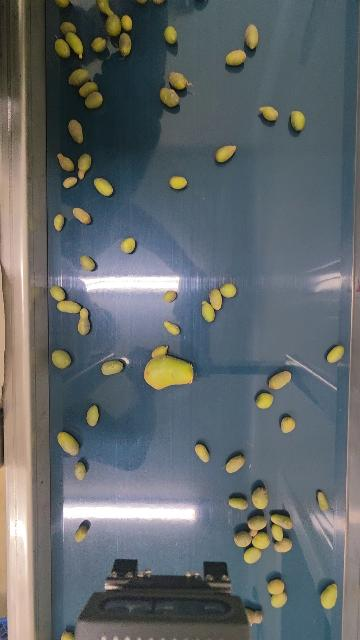Baby Potato: (142, 354, 196, 391), (64, 30, 86, 61), (56, 430, 80, 457), (320, 582, 339, 611), (268, 370, 292, 391), (270, 511, 295, 531), (159, 85, 180, 108), (168, 70, 190, 91), (214, 144, 237, 164), (67, 118, 84, 144), (224, 454, 246, 474), (52, 347, 72, 369), (244, 23, 260, 50), (251, 486, 269, 510), (76, 153, 92, 180), (251, 529, 271, 550), (68, 67, 90, 86), (224, 48, 247, 66), (289, 108, 306, 132), (93, 177, 113, 197), (53, 37, 71, 59), (77, 307, 91, 335), (105, 14, 122, 37), (101, 359, 124, 376), (56, 152, 75, 172), (255, 390, 274, 410), (233, 529, 254, 547), (247, 514, 268, 532), (208, 287, 224, 310), (200, 300, 216, 323), (118, 31, 132, 57), (56, 300, 82, 314), (72, 206, 91, 225), (243, 545, 262, 564), (244, 607, 264, 625), (84, 91, 104, 109), (77, 80, 98, 97), (272, 536, 293, 553), (269, 591, 288, 609), (327, 344, 344, 364), (267, 578, 286, 595), (259, 105, 279, 121), (194, 442, 210, 462), (228, 496, 249, 511), (86, 404, 100, 426), (280, 415, 296, 434), (168, 175, 188, 190), (164, 319, 181, 336), (164, 25, 178, 45), (316, 490, 329, 511), (80, 254, 96, 271), (120, 237, 136, 254), (220, 282, 237, 298), (91, 36, 107, 53), (49, 284, 65, 301), (96, 0, 114, 15), (73, 461, 86, 481), (53, 212, 65, 232), (60, 20, 77, 34), (151, 345, 169, 358), (74, 526, 87, 542), (121, 14, 133, 31), (163, 289, 177, 303), (63, 176, 78, 189), (60, 630, 75, 640), (54, 0, 70, 8), (152, 0, 166, 5), (136, 0, 148, 5)
